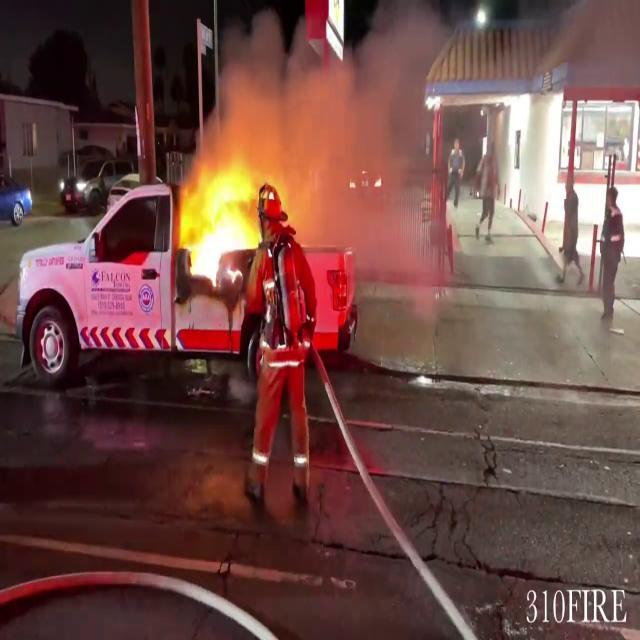Fire: (175, 139, 262, 285)
Smoke: (241, 0, 467, 278)
